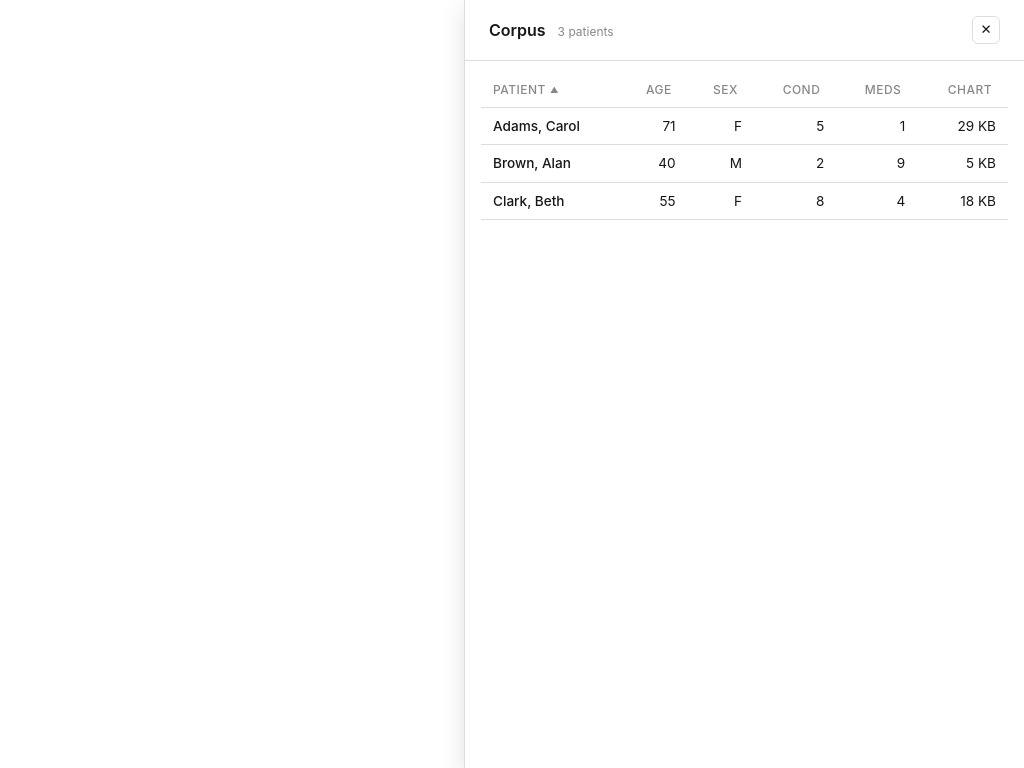
ExplorerDrawer — row → chart detail (N7b) › opens the chart detail on row click and backs out to the table
Click the button with test id "patient-row-c". click: coordinates (744, 201)
box: [481,182,1008,220]
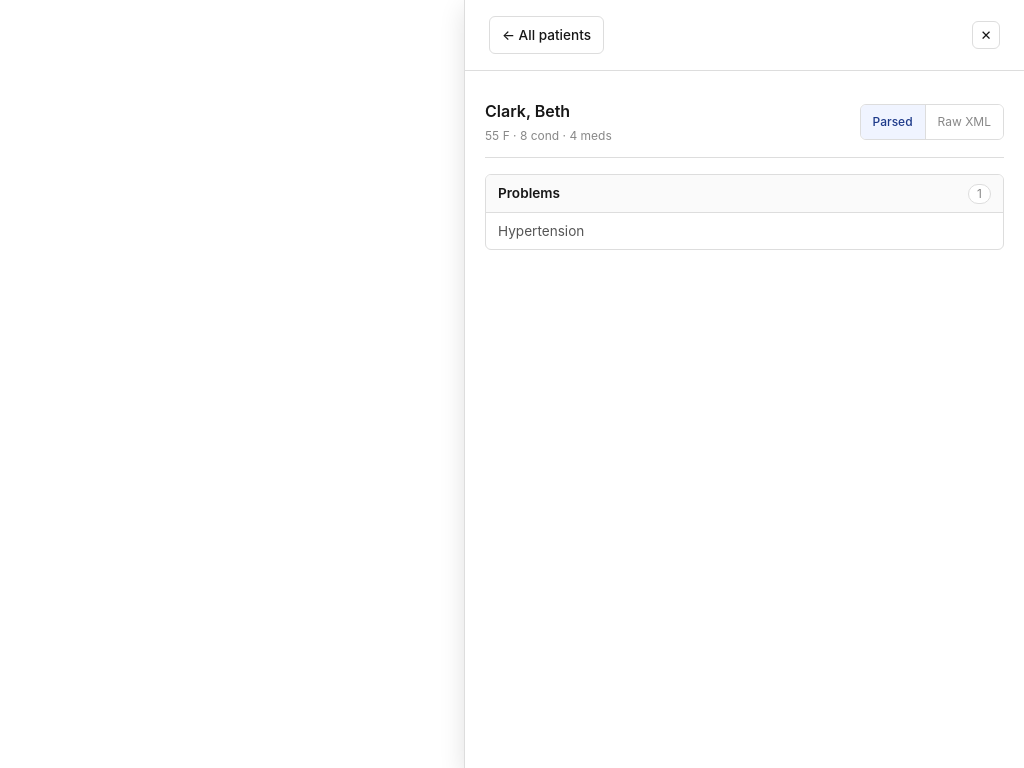
Expected: the element with test id "patient-chart-detail" is shown, [481,83,1008,266]
Expected: the element with test id "section-problems" shows "Hypertension", [498,223,584,239]
Expected: the table is gone
Back returns to the table.
Click the button with test id "chart-back". click: coordinates (546, 35)
box: [489,16,604,54]
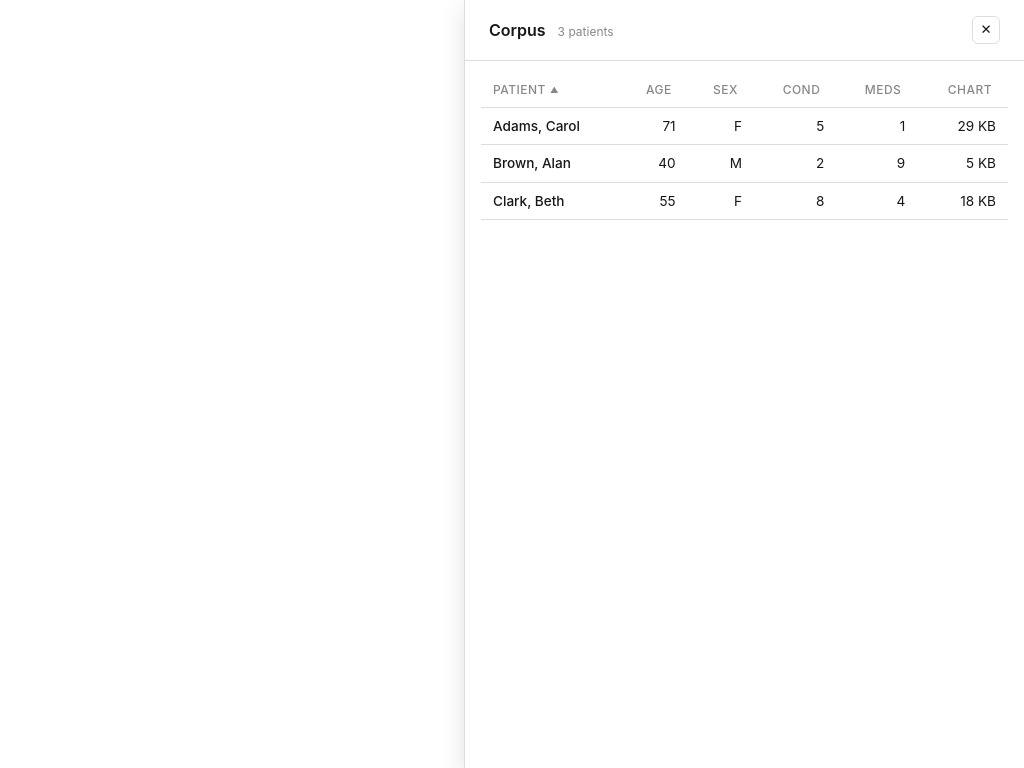
Expected: the table is shown, [481,73,1008,220]
Expected: the element with test id "patient-chart-detail" is gone
